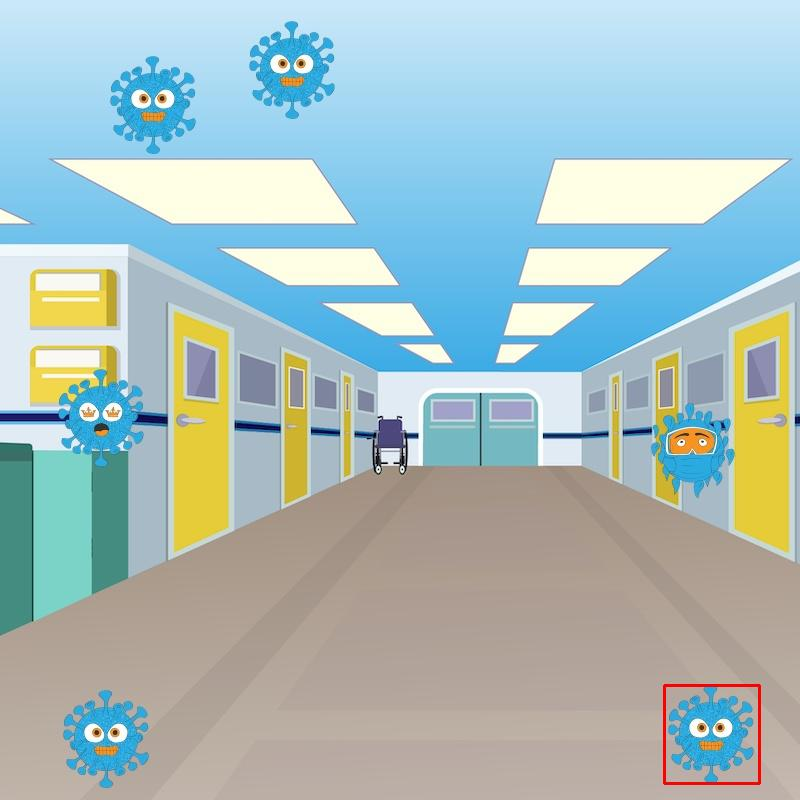corona1: (106, 55, 201, 159), (247, 21, 339, 122), (61, 681, 149, 785), (671, 686, 758, 782)
corona4: (51, 361, 148, 470)
doctor: (651, 405, 733, 492)
